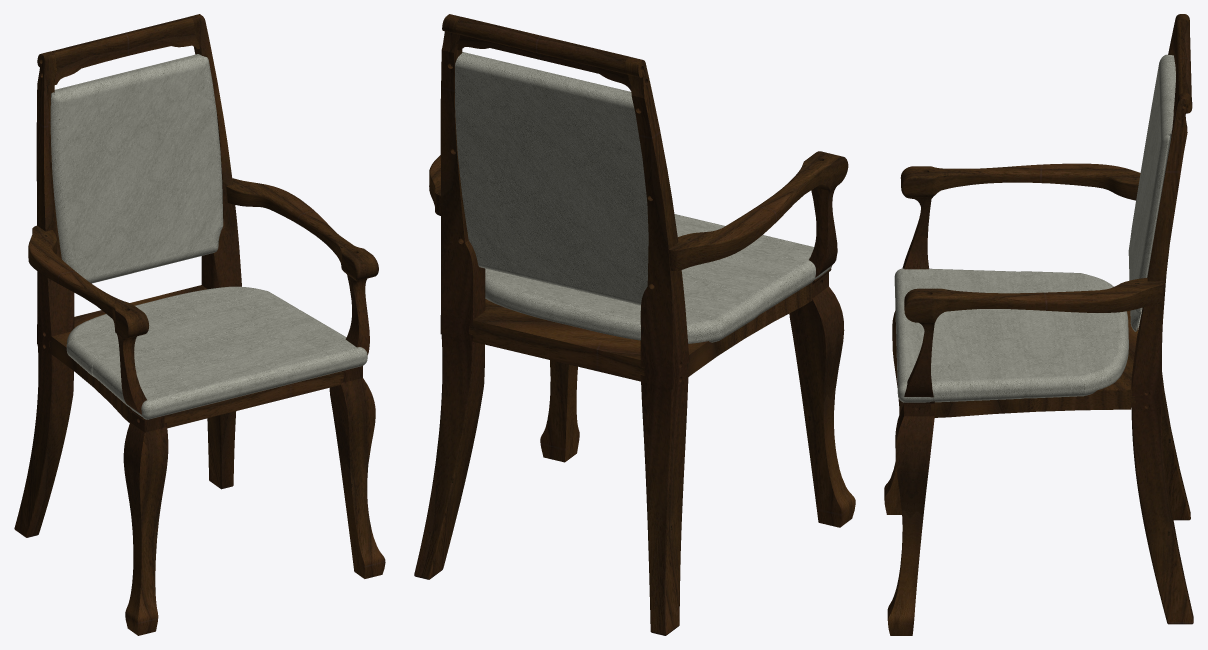
The model's file is windsor-arm.glb.
3 renders of one model, left to right at view 1: azimuth 30°, elevation 25°; view 2: azimuth 150°, elevation 25°; view 3: azimuth 270°, elevation 25°, orthographic. The views are drawn at different scales.
Parts seen in each view (by area): view 1: Windsor Arm Chair.002, Windsor Arm Chair, Windsor Arm Chair.008, Windsor Arm Chair.003, Windsor Arm Chair.006, Windsor Arm Chair.009, Windsor Arm Chair.004, Windsor Arm Chair.007, Windsor Arm Chair.001, Windsor Arm Chair.005; view 2: Windsor Arm Chair.002, Windsor Arm Chair.008, Windsor Arm Chair.009, Windsor Arm Chair, Windsor Arm Chair.003, Windsor Arm Chair.004, Windsor Arm Chair.005, Windsor Arm Chair.001, Windsor Arm Chair.006; view 3: Windsor Arm Chair, Windsor Arm Chair.009, Windsor Arm Chair.006, Windsor Arm Chair.007, Windsor Arm Chair.002, Windsor Arm Chair.005, Windsor Arm Chair.004, Windsor Arm Chair.003, Windsor Arm Chair.008, Windsor Arm Chair.001.
Part boxes in pixels (bbox=[...]): Windsor Arm Chair.002: bbox=[50, 54, 223, 283]; Windsor Arm Chair: bbox=[66, 286, 367, 419]; Windsor Arm Chair.008: bbox=[14, 51, 74, 537]; Windsor Arm Chair.003: bbox=[117, 334, 168, 635]; Windsor Arm Chair.006: bbox=[329, 274, 385, 578]; Windsor Arm Chair.009: bbox=[190, 14, 241, 489]; Windsor Arm Chair.004: bbox=[50, 285, 343, 428]; Windsor Arm Chair.007: bbox=[226, 178, 378, 280]; Windsor Arm Chair.001: bbox=[52, 16, 199, 84]; Windsor Arm Chair.005: bbox=[28, 225, 149, 338]; Windsor Arm Chair.002: bbox=[455, 52, 648, 305]; Windsor Arm Chair.008: bbox=[624, 57, 688, 635]; Windsor Arm Chair.009: bbox=[414, 14, 485, 579]; Windsor Arm Chair: bbox=[485, 214, 832, 343]; Windsor Arm Chair.003: bbox=[789, 186, 855, 527]; Windsor Arm Chair.004: bbox=[469, 282, 814, 381]; Windsor Arm Chair.005: bbox=[669, 151, 848, 270]; Windsor Arm Chair.001: bbox=[456, 17, 631, 90]; Windsor Arm Chair.006: bbox=[540, 360, 579, 462]; Windsor Arm Chair: bbox=[894, 268, 1128, 402]; Windsor Arm Chair.009: bbox=[1131, 93, 1193, 624]; Windsor Arm Chair.006: bbox=[887, 322, 934, 635]; Windsor Arm Chair.007: bbox=[904, 278, 1165, 322]; Windsor Arm Chair.002: bbox=[1128, 54, 1175, 331]; Windsor Arm Chair.005: bbox=[900, 163, 1140, 200]; Windsor Arm Chair.004: bbox=[931, 310, 1138, 417]; Windsor Arm Chair.003: bbox=[884, 199, 931, 514]; Windsor Arm Chair.008: bbox=[1162, 14, 1190, 520]; Windsor Arm Chair.001: bbox=[1170, 19, 1191, 125].
Bounding box in the file's own units: 0.5614 × 0.9679 × 0.5291.
2 materials, 2 textured.
